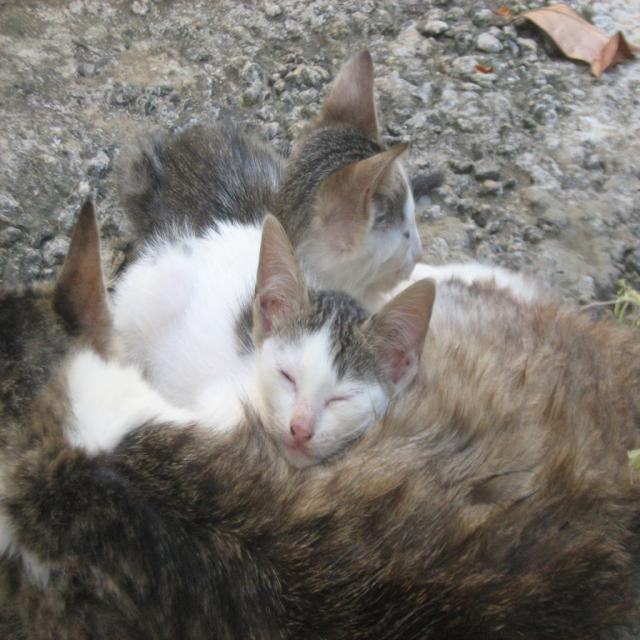Cat: (0, 191, 639, 638), (110, 212, 440, 478), (109, 47, 418, 305)
